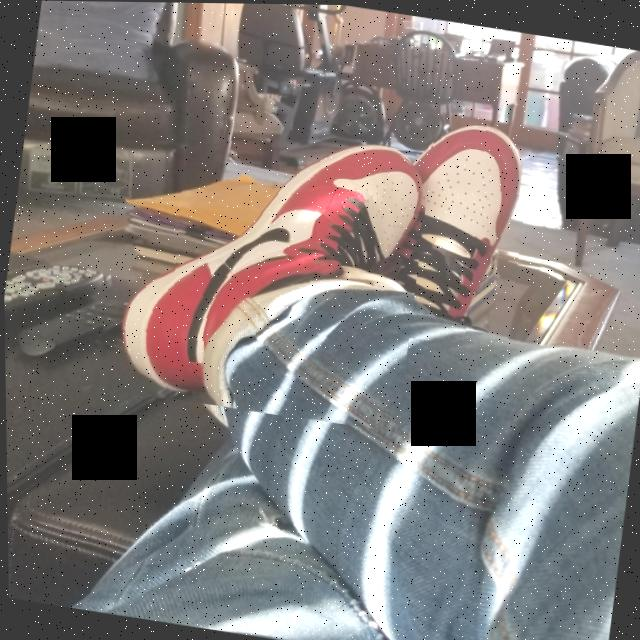shoe: (80, 90, 437, 434), (388, 110, 537, 352)
